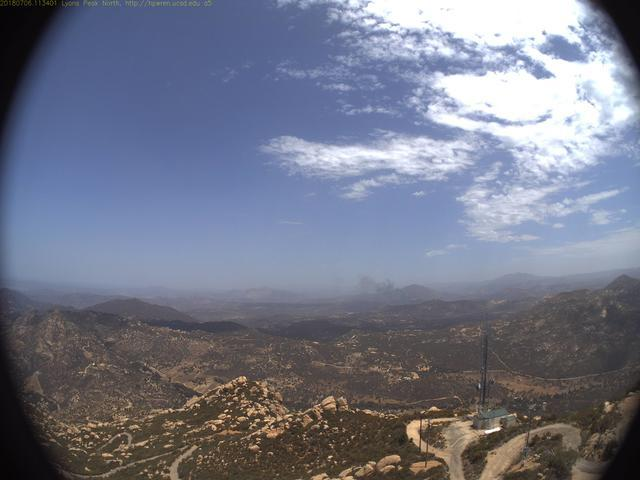smoke: (356, 266, 404, 303)
